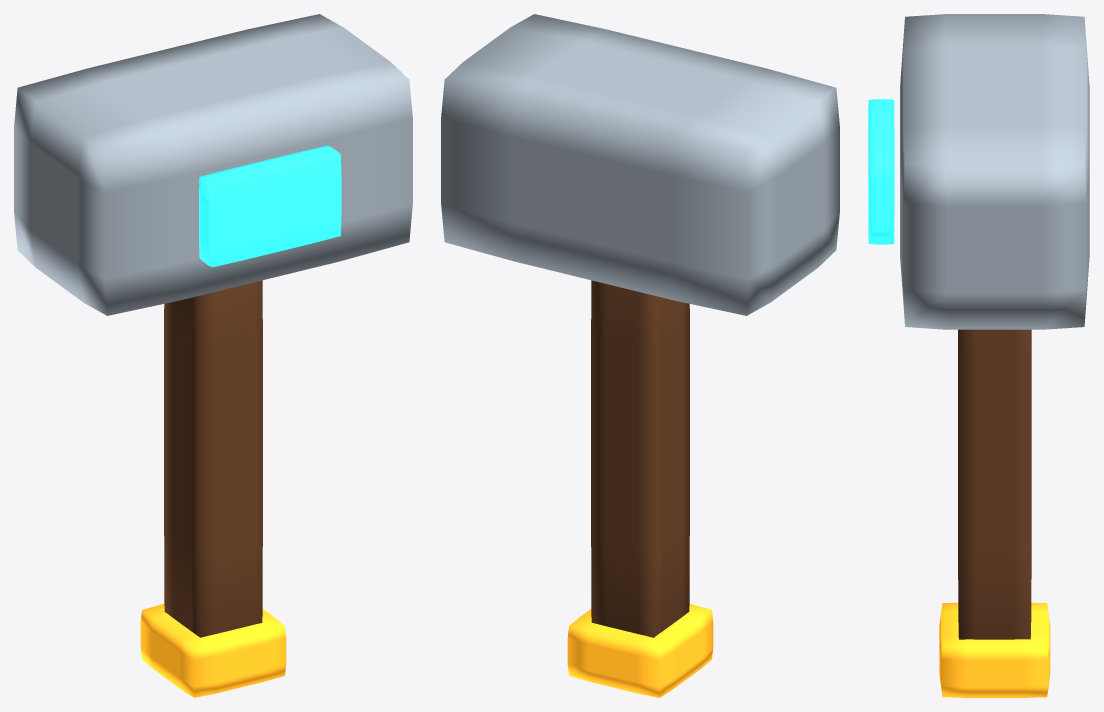
Rendered from hammer-thunder.glb.
3 renders of one model, left to right at view 1: azimuth 30°, elevation 25°; view 2: azimuth 150°, elevation 25°; view 3: azimuth 270°, elevation 25°, orthographic.
Parts seen in each view (by area): view 1: Head, Handle, Core, Pommel; view 2: Head, Handle, Pommel; view 3: Head, Handle, Pommel, Core.
Part boxes in pixels (x1,y1,x2,y2): Head: (14, 14, 412, 315); Handle: (164, 280, 262, 637); Core: (199, 145, 341, 267); Pommel: (140, 604, 286, 697); Head: (441, 14, 839, 315); Handle: (591, 280, 689, 637); Pommel: (567, 604, 713, 697); Head: (900, 14, 1089, 329); Handle: (958, 329, 1031, 639); Pommel: (939, 602, 1050, 697); Core: (868, 99, 894, 244).
Bounding box in the file's own units: 1.4 × 2.47 × 0.84.
